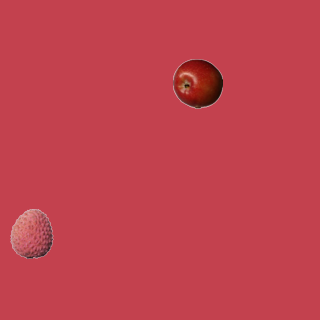Apple Braeburn: (172, 58, 222, 108)
Lychee: (6, 208, 56, 258)
